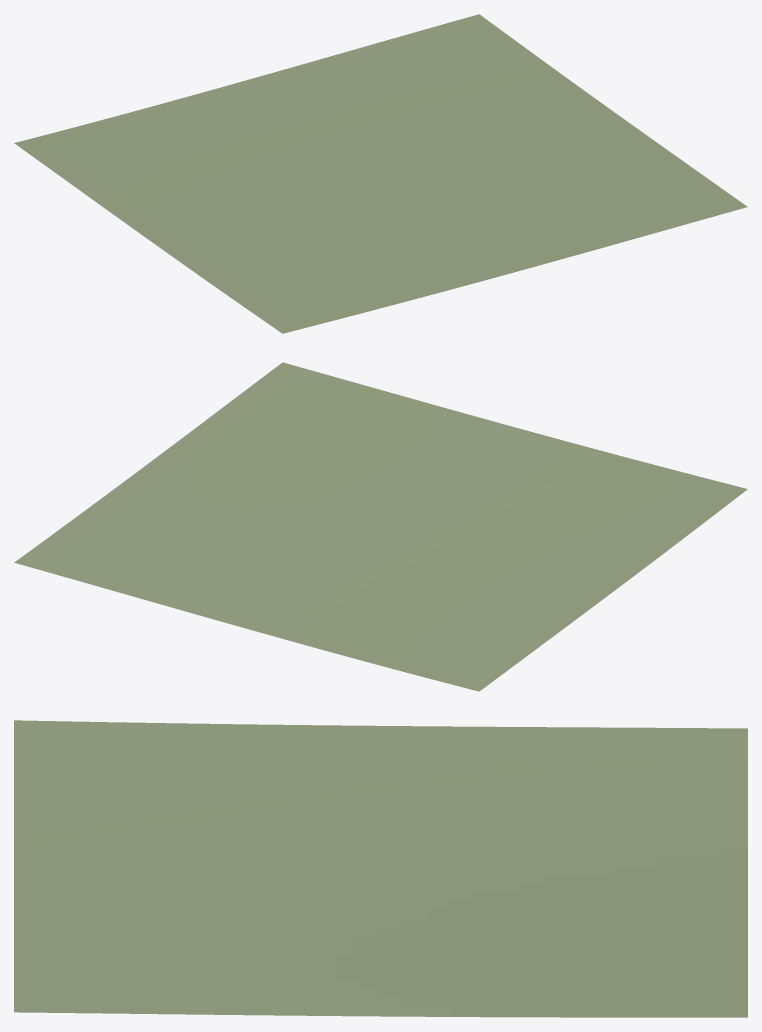
Rendered from expanse-9-29.glb.
3 renders of one model, top to bottom at view 1: azimuth 30°, elevation 25°; view 2: azimuth 150°, elevation 25°; view 3: azimuth 270°, elevation 25°, orthographic. The views are drawn at different scales.
Parts seen in each view (by area): view 1: expanse-9-29; view 2: expanse-9-29; view 3: expanse-9-29.
Part boxes in pixels (x1,y1,x2,y2): expanse-9-29: (14, 14, 747, 333); expanse-9-29: (14, 362, 747, 691); expanse-9-29: (14, 720, 747, 1017).
Bounding box in the file's own units: 256 × 10.08 × 256.
